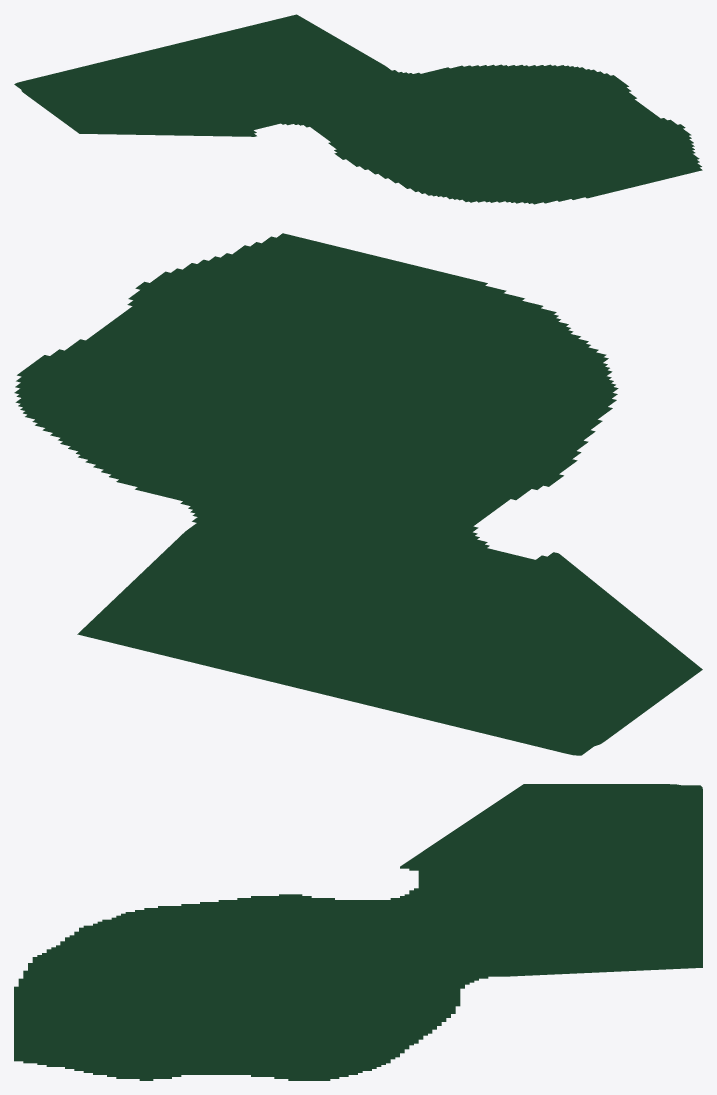
Rendered from Chão Jogável.fbx.
3 views of the same model, one above another, from view 1: azimuth 30°, elevation 25°; view 2: azimuth 150°, elevation 25°; view 3: azimuth 270°, elevation 25° (orthographic). The views are drawn at different scales.
Parts seen in each view (by area): view 1: Chão Jogável; view 2: Chão Jogável; view 3: Chão Jogável.
Part boxes in pixels (x1=…): Chão Jogável: x1=14, y1=14, x2=702, y2=204; Chão Jogável: x1=14, y1=233, x2=702, y2=755; Chão Jogável: x1=14, y1=784, x2=702, y2=1080.
Bounding box in the file's own units: 25475 × 0.00407 × 24999.
